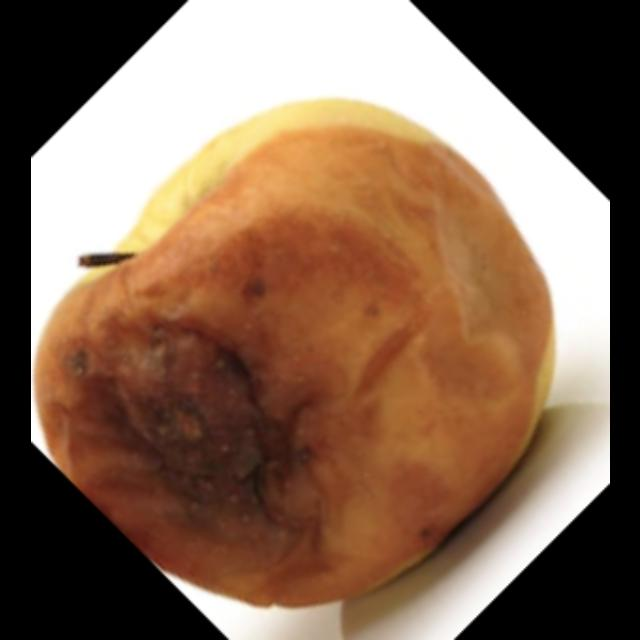Apel Tidak Segar: (33, 104, 564, 619)
